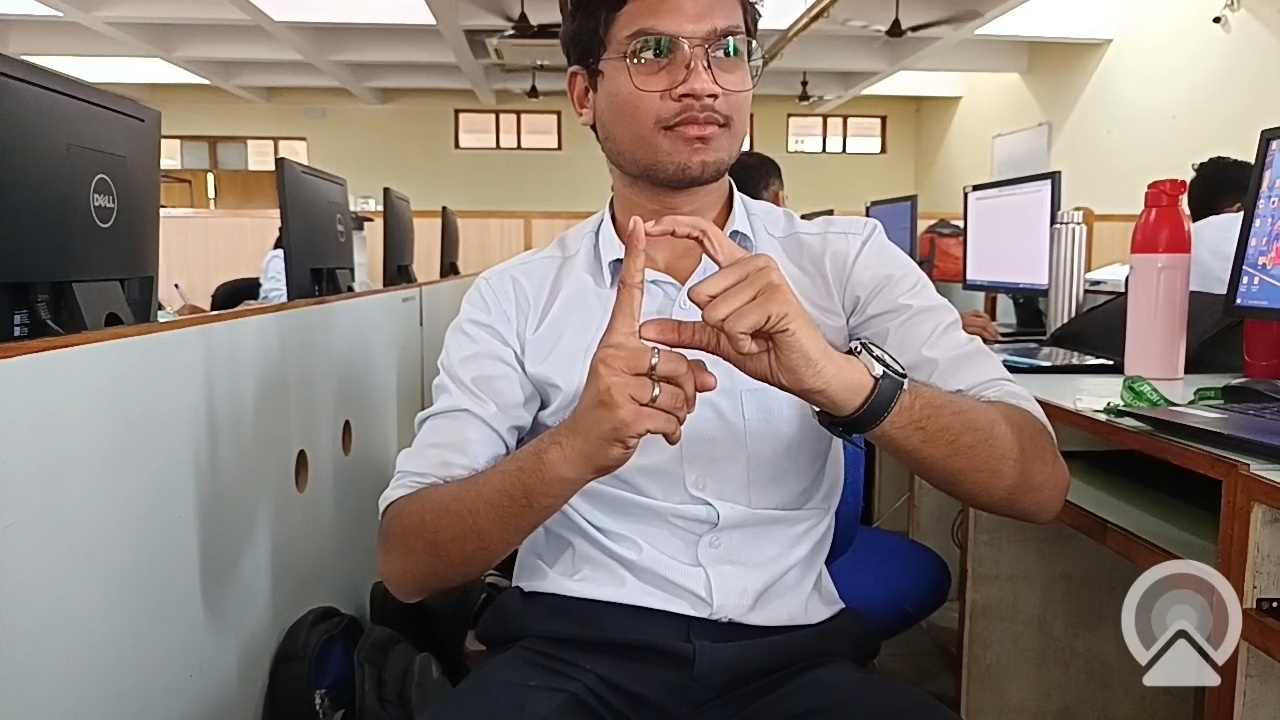D: (564, 192, 860, 408)
